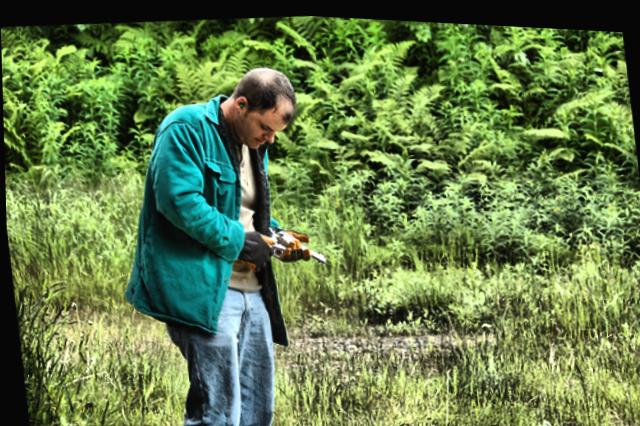pistol: (240, 215, 324, 273)
